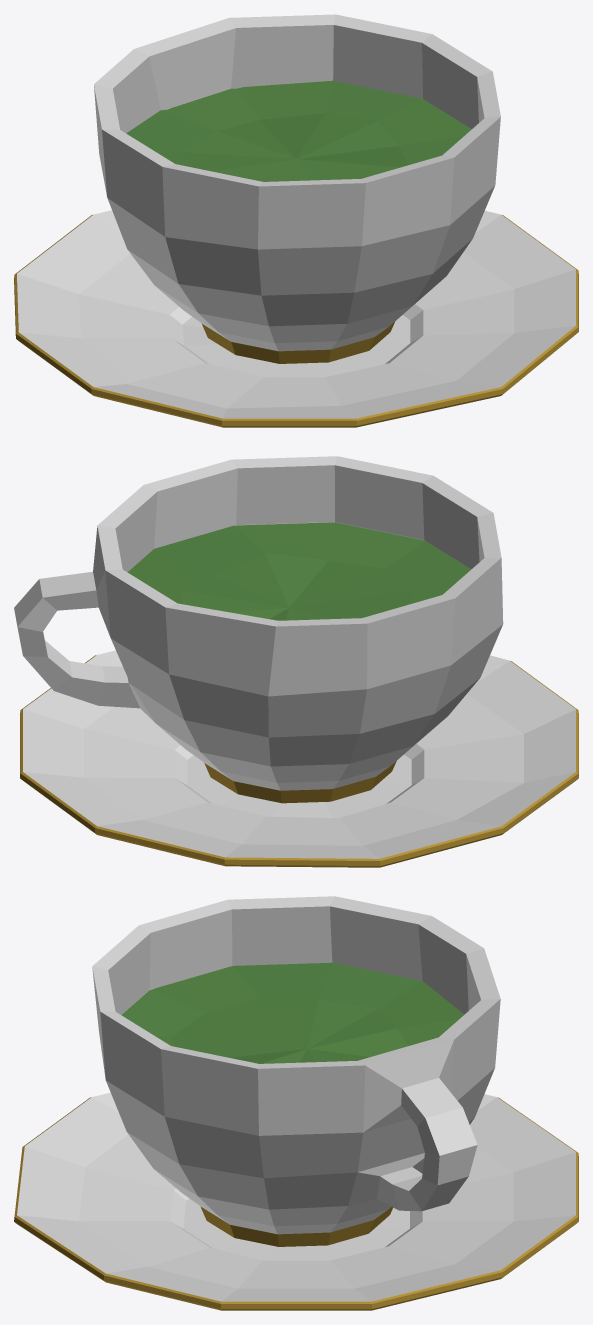
The model's file is teacup.fbx.
3 views of the same model, one above another, from view 1: azimuth 30°, elevation 25°; view 2: azimuth 150°, elevation 25°; view 3: azimuth 270°, elevation 25° (orthographic).
Parts seen in each view (by area): view 1: cup of tea; view 2: cup of tea; view 3: cup of tea.
Part boxes in pixels (x1,y1,x2,y2): cup of tea: (14, 14, 578, 427); cup of tea: (14, 456, 578, 867); cup of tea: (14, 896, 578, 1310).
Size of the model in its own units: 3.45 by 1.64 by 3.45.
